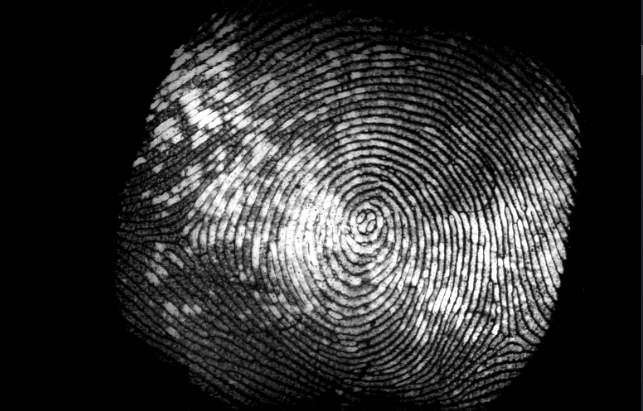nucelo: (347, 204, 387, 242)
verticilo: (168, 226, 207, 256), (494, 318, 526, 347)
